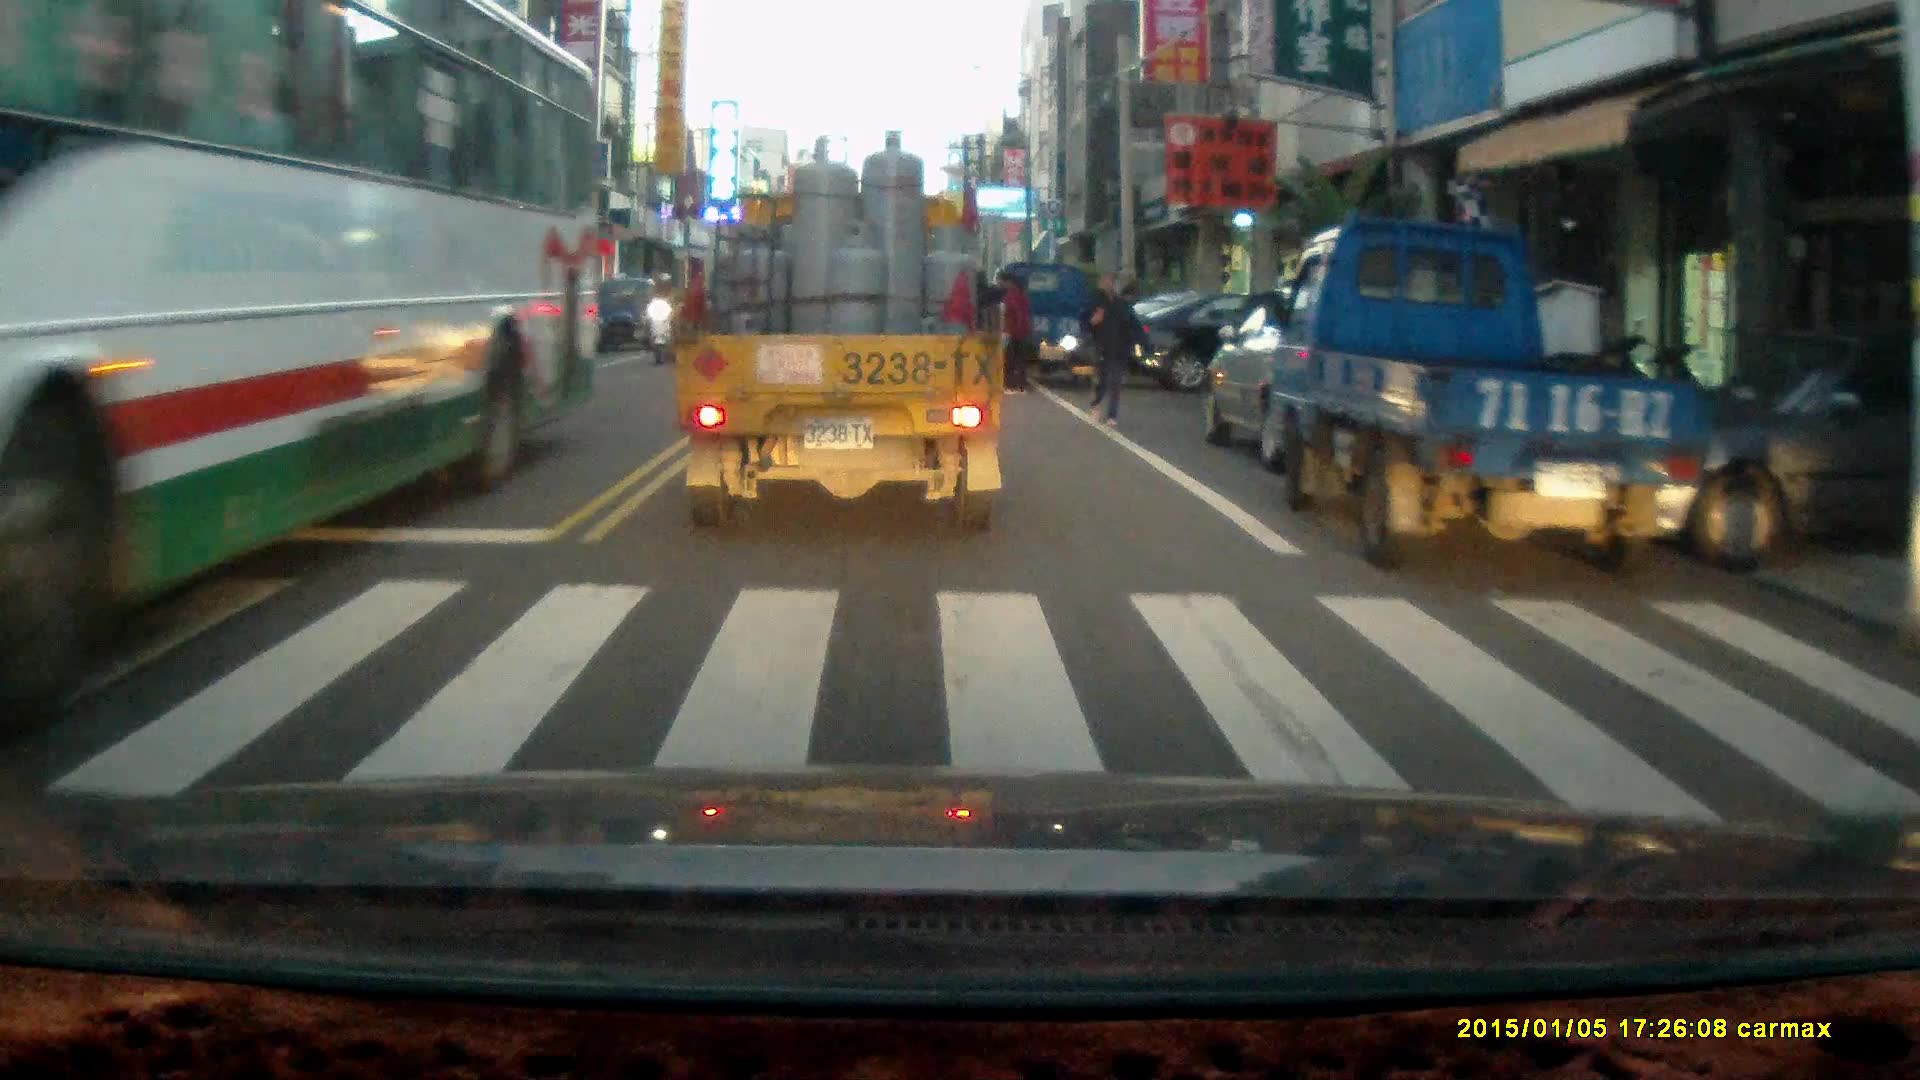pedestrian: (1078, 271, 1146, 427), (996, 269, 1032, 394)
rider: (645, 270, 684, 367)
vehicle: (1, 12, 607, 677), (1259, 214, 1703, 575), (674, 128, 1012, 537), (1199, 280, 1482, 477), (1126, 280, 1369, 397), (988, 260, 1115, 391), (469, 282, 593, 373)
